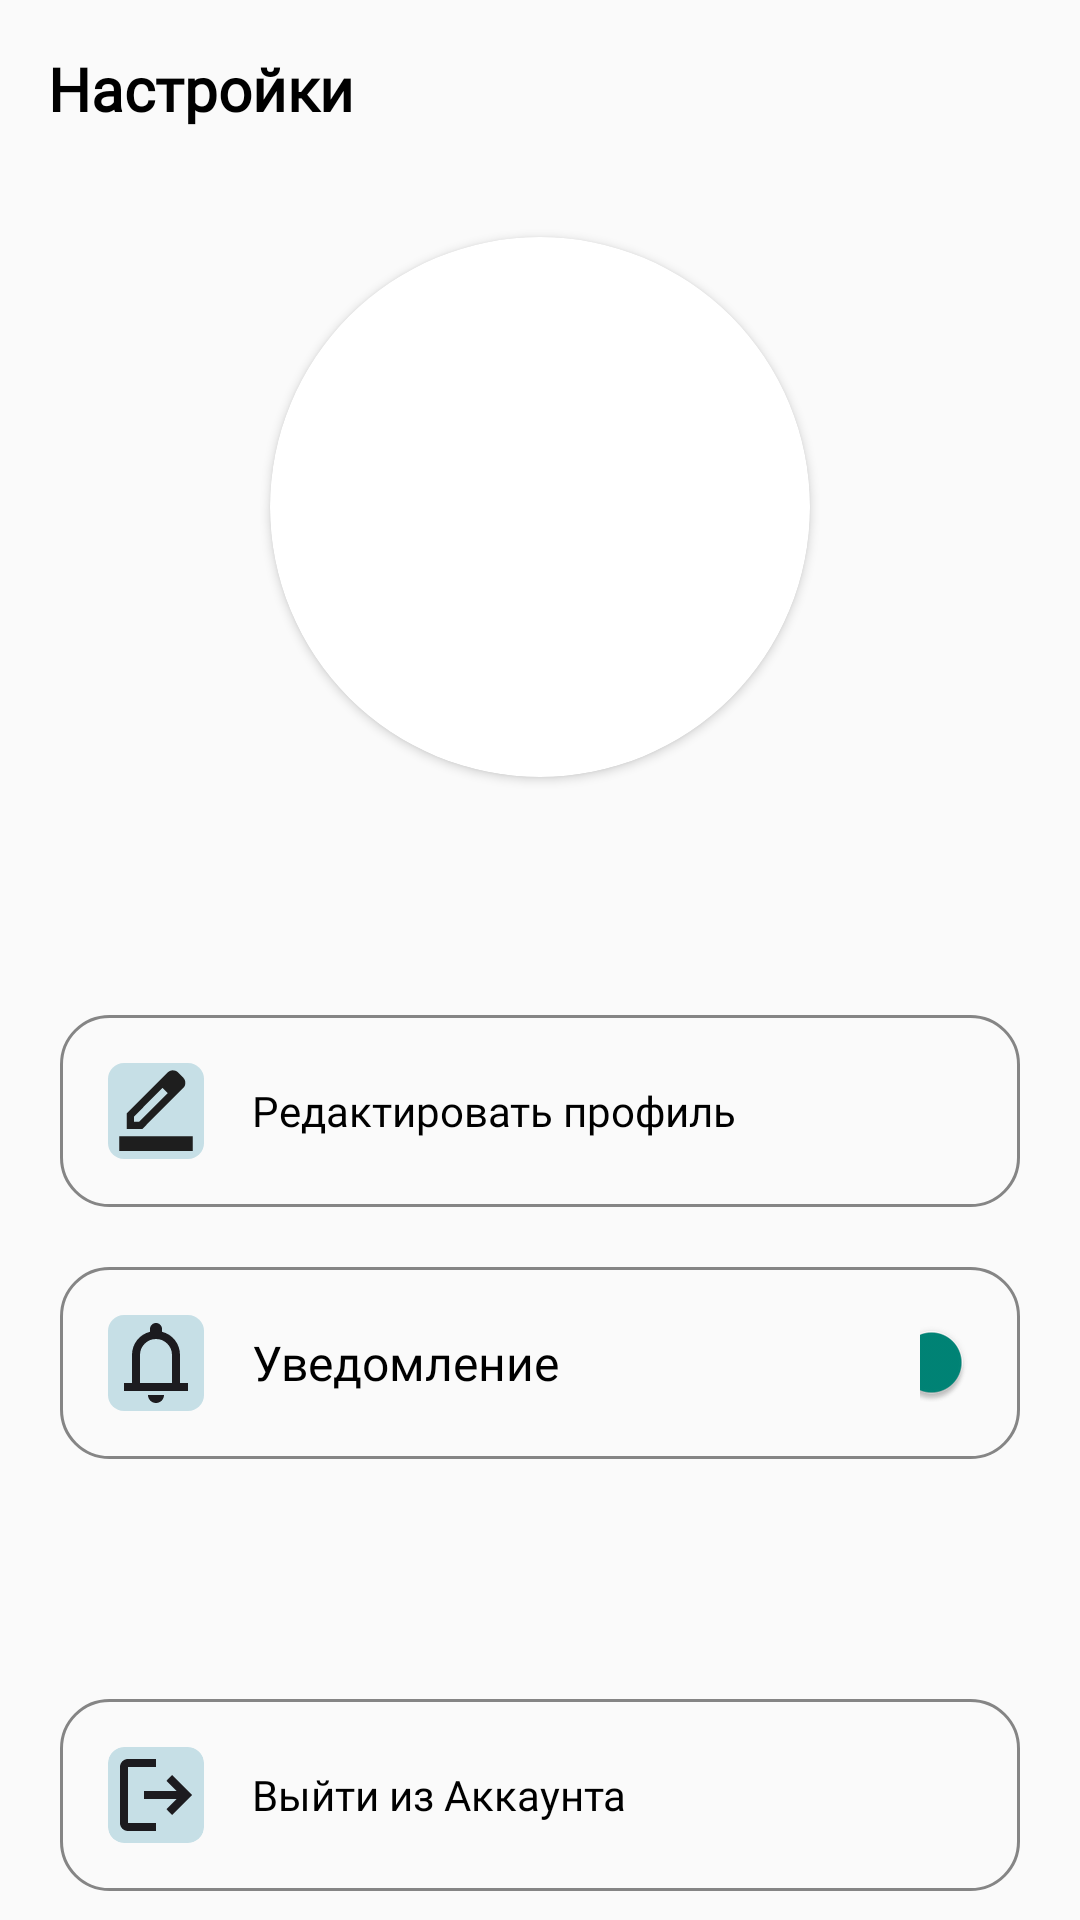

Locate icon controls on the screen. Image size 1080×1920, boxes as (x1, y1, x2, y2).
edit: (108, 1063, 204, 1159)
exit: (108, 1747, 204, 1843)
notifications: (108, 1315, 204, 1411)
